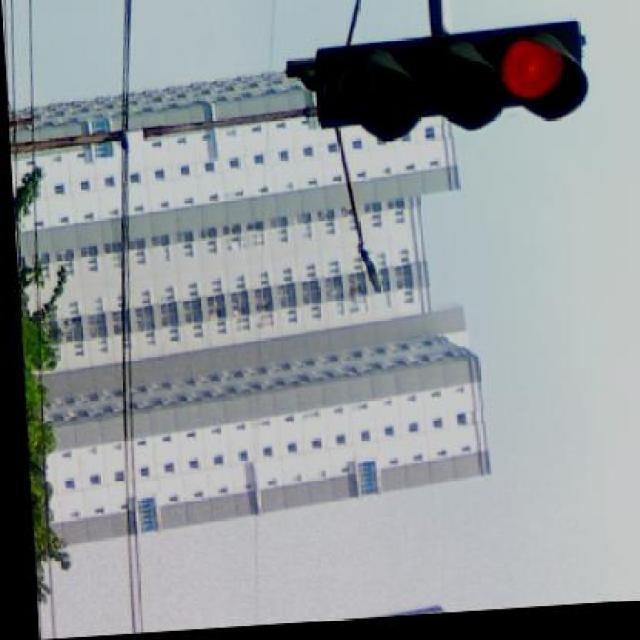traffic light: (289, 21, 588, 142)
